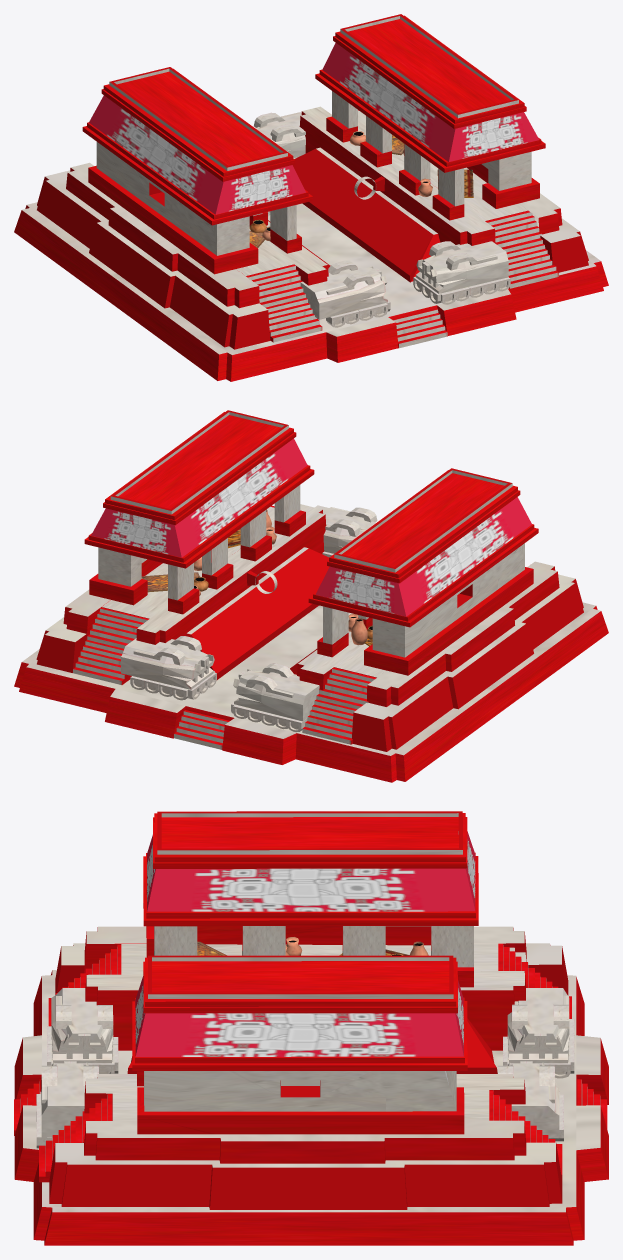
File: ball_1.dae
The picture shows the model from 3 angles, top to bottom: view 1: azimuth 30°, elevation 25°; view 2: azimuth 150°, elevation 25°; view 3: azimuth 270°, elevation 25°; orthographic projection. The views are drawn at different scales.
Visible parts, largest first — view 1: b_1; view 2: b_1; view 3: b_1.
Part boxes in pixels (x1,y1,x2,y2): b_1: (14, 14, 608, 381); b_1: (14, 410, 608, 782); b_1: (14, 811, 608, 1245).
Bounding box in the file's own units: 32.94 × 33.35 × 13.58.
